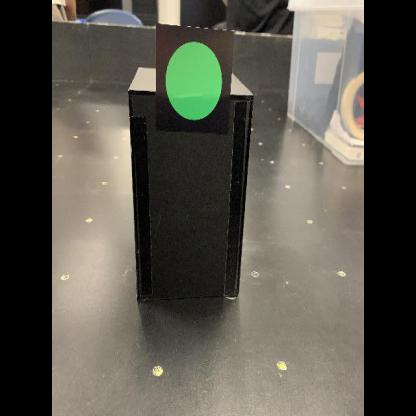go: (155, 22, 236, 134)
